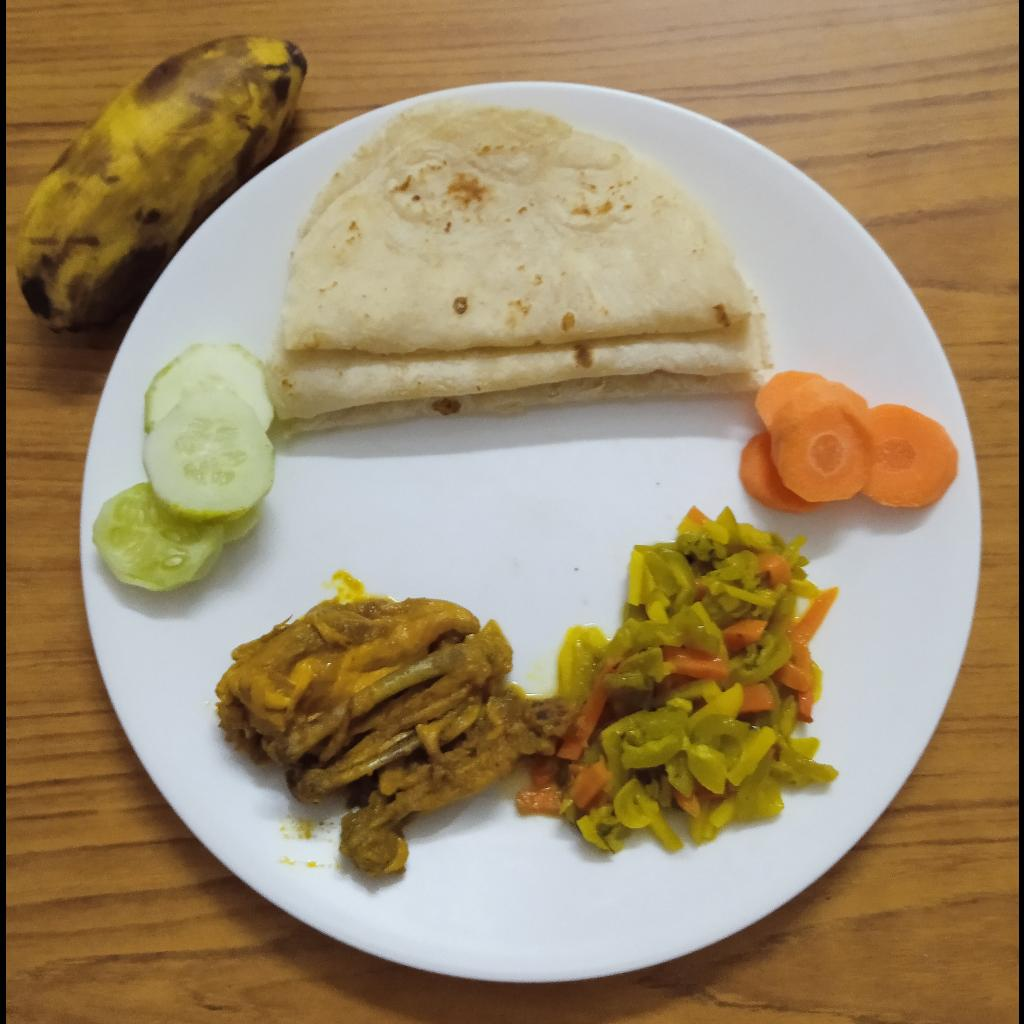banana: (16, 37, 309, 333)
carrot: (739, 370, 956, 514)
chichinga-vaji: (516, 510, 839, 855)
chicken: (213, 596, 572, 877)
cucumber: (90, 344, 279, 593)
ruti: (272, 96, 773, 437)
